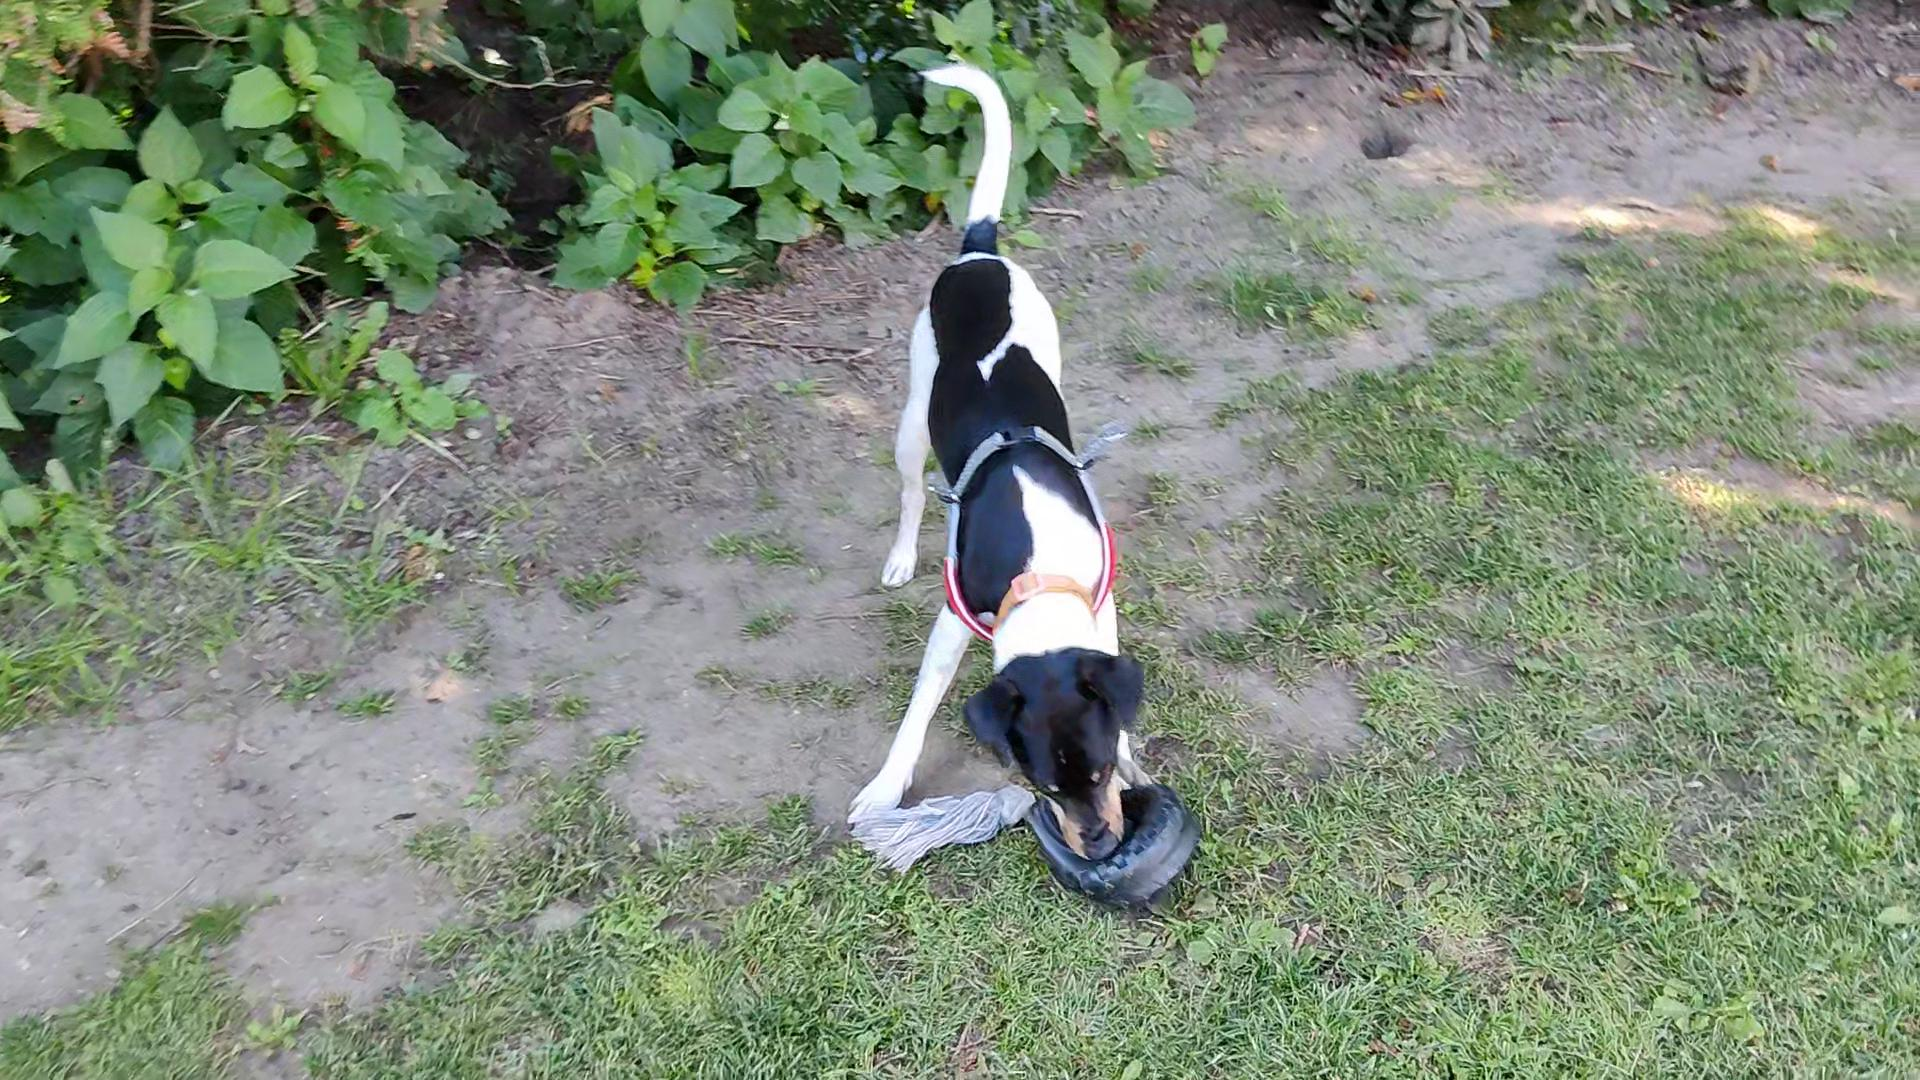Dog: (836, 53, 1176, 862)
